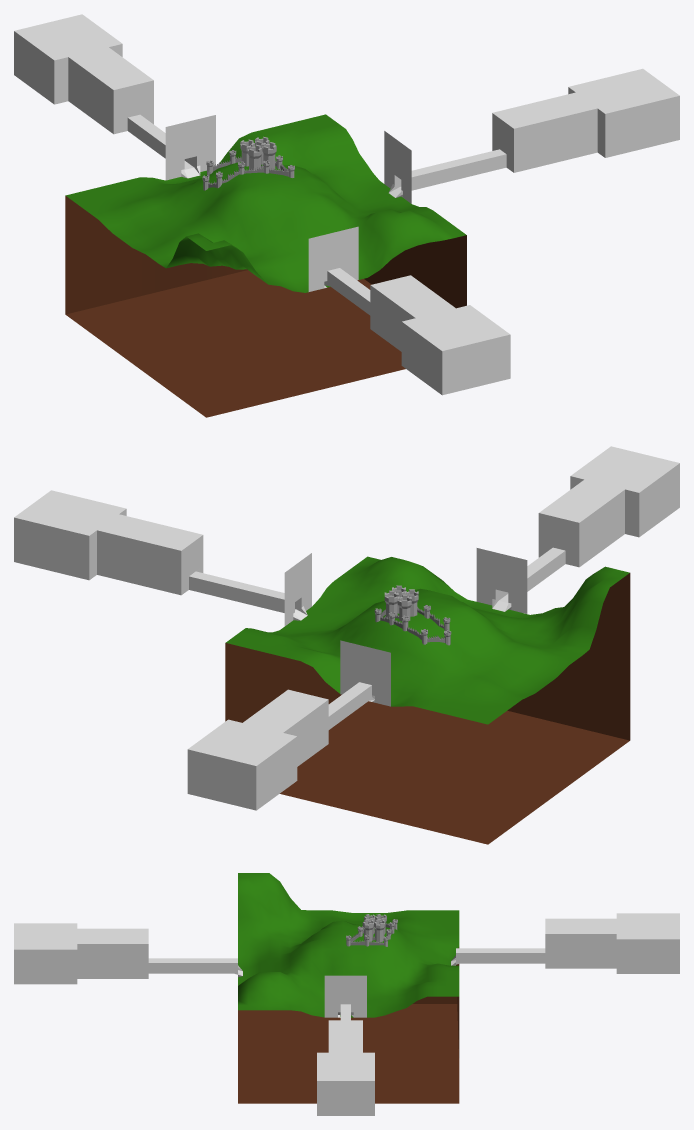
The model's file is demo_env3.fbx.
The picture shows the model from 3 angles, top to bottom: view 1: azimuth 30°, elevation 25°; view 2: azimuth 150°, elevation 25°; view 3: azimuth 270°, elevation 25°; orthographic projection. The views are drawn at different scales.
Visible parts, largest first — view 1: Plane, Plane.001, Plane.003, Plane.002; view 2: Plane, Plane.001, Plane.003, Plane.002; view 3: Plane, Plane.003, Plane.002, Plane.001.
Part boxes in pixels (left/top/right/bottom): Plane: left=65, top=114, right=466, bottom=417; Plane.001: left=384, top=68, right=679, bottom=203; Plane.003: left=308, top=226, right=510, bottom=395; Plane.002: left=14, top=14, right=215, bottom=180; Plane: left=225, top=556, right=630, bottom=844; Plane.001: left=14, top=490, right=311, bottom=626; Plane.003: left=476, top=446, right=679, bottom=613; Plane.002: left=187, top=640, right=390, bottom=810; Plane: left=238, top=873, right=459, bottom=1103; Plane.003: left=14, top=923, right=242, bottom=984; Plane.002: left=451, top=913, right=679, bottom=973; Plane.001: left=317, top=975, right=374, bottom=1115.
Bounding box in the file's own units: 7481 × 2404 × 10489.
